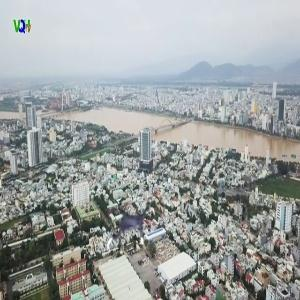drone: (100, 200, 161, 261)
